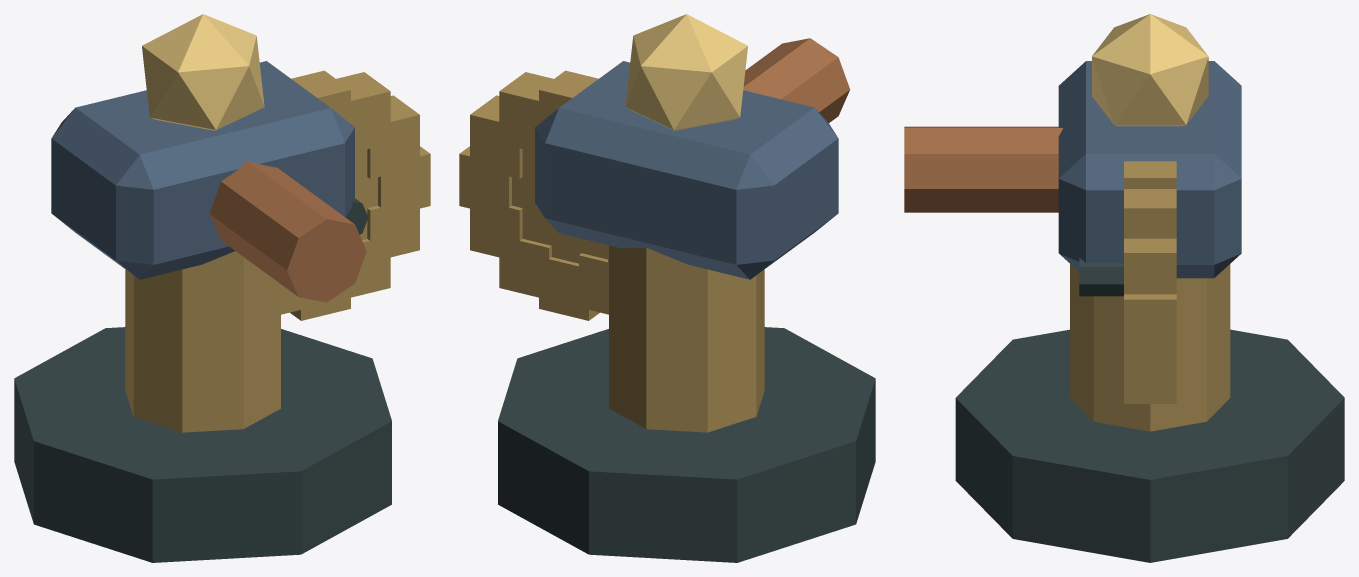
Rendered from works_sentry.glb.
3 views of the same model, side by side, from view 1: azimuth 30°, elevation 25°; view 2: azimuth 150°, elevation 25°; view 3: azimuth 270°, elevation 25° (orthographic).
Visible parts, largest first — view 1: base, turret, column, barrel, charge, sentry_gear_tooth.002, sentry_gear_tooth, sentry_gear_tooth.001, sentry_gear_tooth.011, sentry_gear_tooth.010, sentry_gear_tooth.003, sentry_gear (+1 smaller); view 2: base, turret, column, charge, barrel, sentry_gear_tooth.001, sentry_gear, sentry_gear_tooth.009, sentry_gear_tooth.010, sentry_gear_tooth.002, sentry_gear_tooth, sentry_gear_tooth.011 (+2 smaller); view 3: base, turret, column, barrel, charge, sentry_gear_tooth, sentry_gear_tooth.001, sentry_gear_tooth.002, sentry_gear_tooth.011, sentry_gear_hub, sentry_gear_tooth.003, sentry_gear_tooth.010.
Boxes of the visible parts, x1,y1,x2,y2 form: base: (14, 327, 391, 562); turret: (51, 61, 354, 279); column: (125, 251, 280, 432); barrel: (209, 161, 366, 302); charge: (142, 14, 264, 130); sentry_gear_tooth.002: (336, 72, 390, 151); sentry_gear_tooth: (378, 146, 430, 217); sentry_gear_tooth.001: (367, 95, 419, 178); sentry_gear_tooth.011: (367, 199, 419, 257); sentry_gear_tooth.010: (351, 236, 390, 297); sentry_gear_tooth.003: (291, 70, 350, 123); sentry_gear: (355, 149, 377, 239); base: (498, 327, 875, 562); turret: (535, 61, 838, 279); column: (609, 245, 764, 432); charge: (625, 14, 747, 130); barrel: (743, 38, 850, 122); sentry_gear_tooth.001: (470, 95, 522, 178); sentry_gear: (512, 149, 607, 263); sentry_gear_tooth.009: (539, 257, 599, 320); sentry_gear_tooth.010: (499, 236, 551, 298); sentry_gear_tooth.002: (499, 72, 553, 151); sentry_gear_tooth: (459, 146, 511, 217); sentry_gear_tooth.011: (470, 204, 522, 261); base: (955, 329, 1344, 562); turret: (1058, 61, 1241, 278); column: (1070, 264, 1230, 431); barrel: (904, 126, 1062, 212); charge: (1092, 14, 1208, 126); sentry_gear_tooth: (1124, 294, 1176, 351); sentry_gear_tooth.001: (1124, 238, 1176, 294); sentry_gear_tooth.002: (1124, 189, 1176, 238); sentry_gear_tooth.011: (1124, 351, 1176, 387); sentry_gear_hub: (1079, 258, 1123, 296); sentry_gear_tooth.003: (1124, 161, 1176, 188); sentry_gear_tooth.010: (1124, 387, 1176, 403).
Size of the model in its own units: 1.93 by 2.25 by 1.93.
